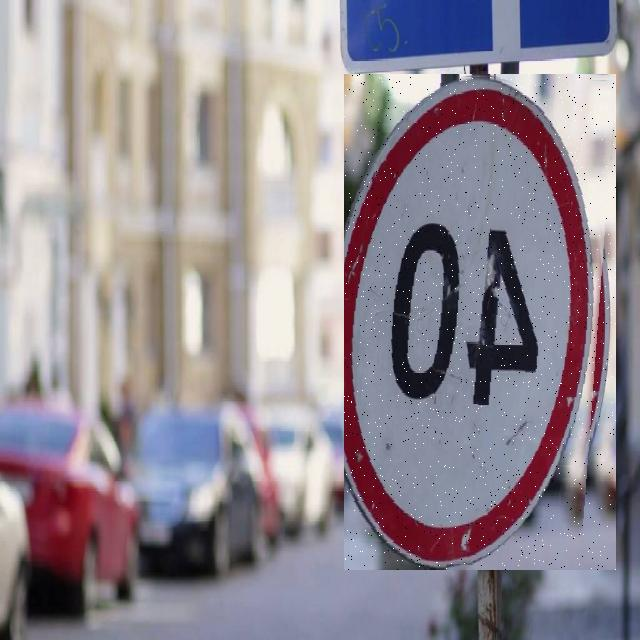speed limit 40: (344, 74, 616, 570)
